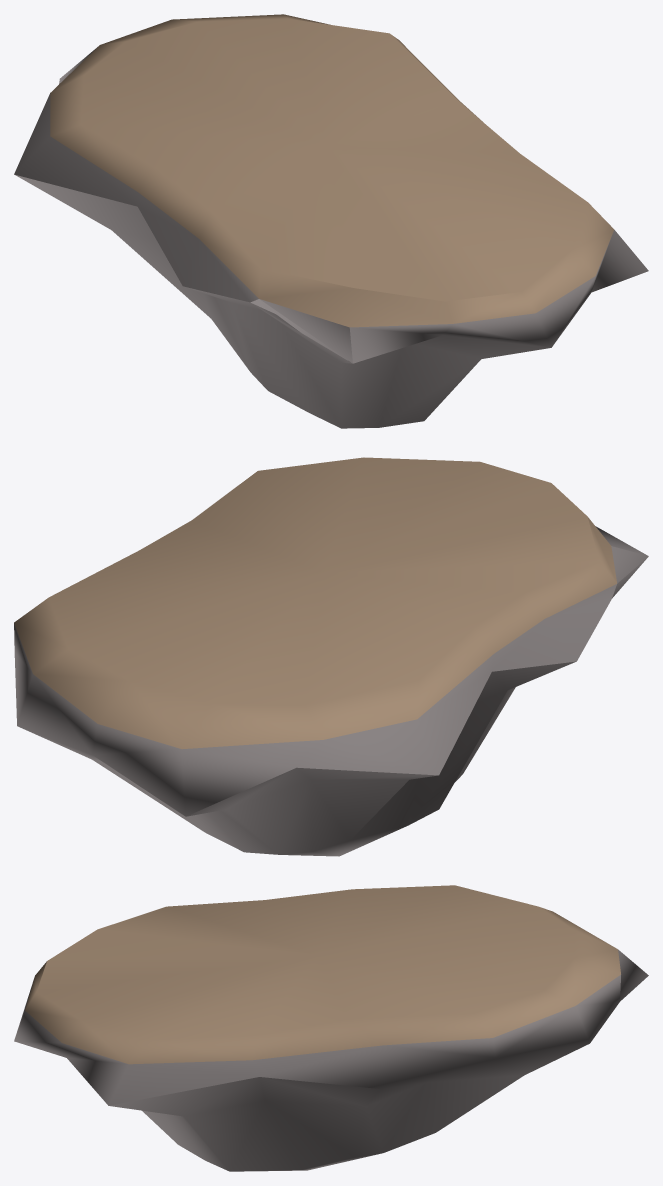
Rendered from Schwebestein_3.fbx.
3 renders of one model, top to bottom at view 1: azimuth 30°, elevation 25°; view 2: azimuth 150°, elevation 25°; view 3: azimuth 270°, elevation 25°, orthographic. The views are drawn at different scales.
Parts seen in each view (by area): view 1: Schwebestein_3; view 2: Schwebestein_3; view 3: Schwebestein_3.
Boxes of the visible parts, x1,y1,x2,y2 form: Schwebestein_3: (14,14,648,428); Schwebestein_3: (14,457,648,856); Schwebestein_3: (14,885,648,1171).
Size of the model in its own units: 1623 by 1018 by 2611.
